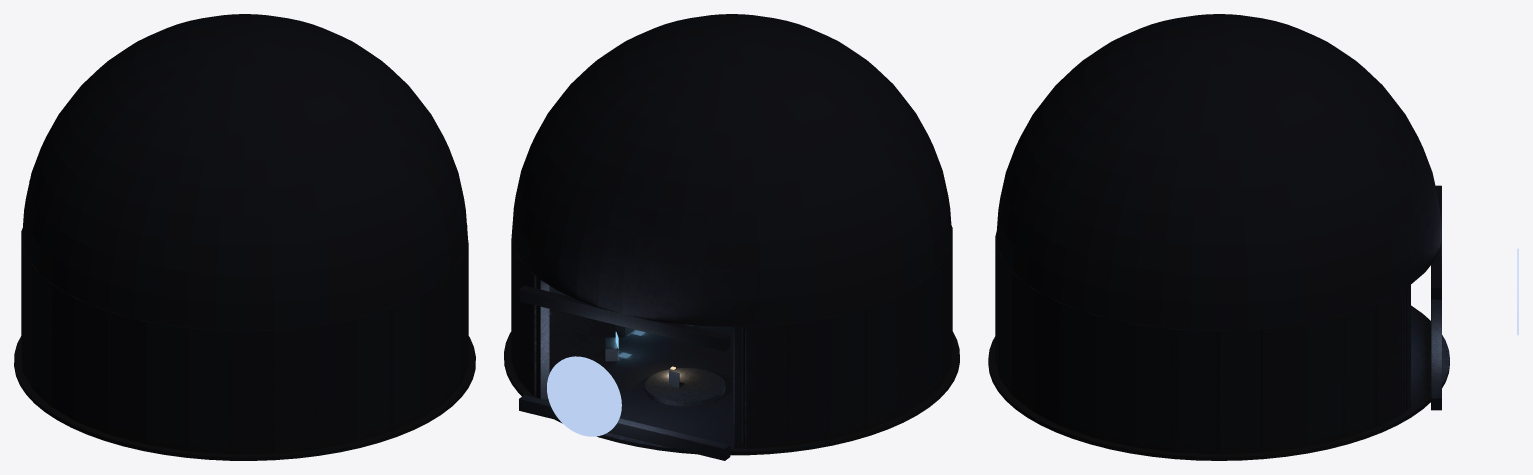
The model's file is moon.glb.
3 views of the same model, side by side, from view 1: azimuth 30°, elevation 25°; view 2: azimuth 150°, elevation 25°; view 3: azimuth 270°, elevation 25° (orthographic).
Visible parts, largest first — view 1: Shell; view 2: Shell, Earth, Furniture; view 3: Shell.
Boxes of the visible parts, bbox=[...] form: Shell: bbox=[14, 14, 475, 460]; Shell: bbox=[504, 14, 959, 460]; Earth: bbox=[547, 356, 621, 436]; Furniture: bbox=[605, 324, 694, 388]; Shell: bbox=[988, 14, 1449, 460].
Bounding box in the file's own units: 34 × 26.7 × 39.05.
Materials: 6 (2 with a texture image).
